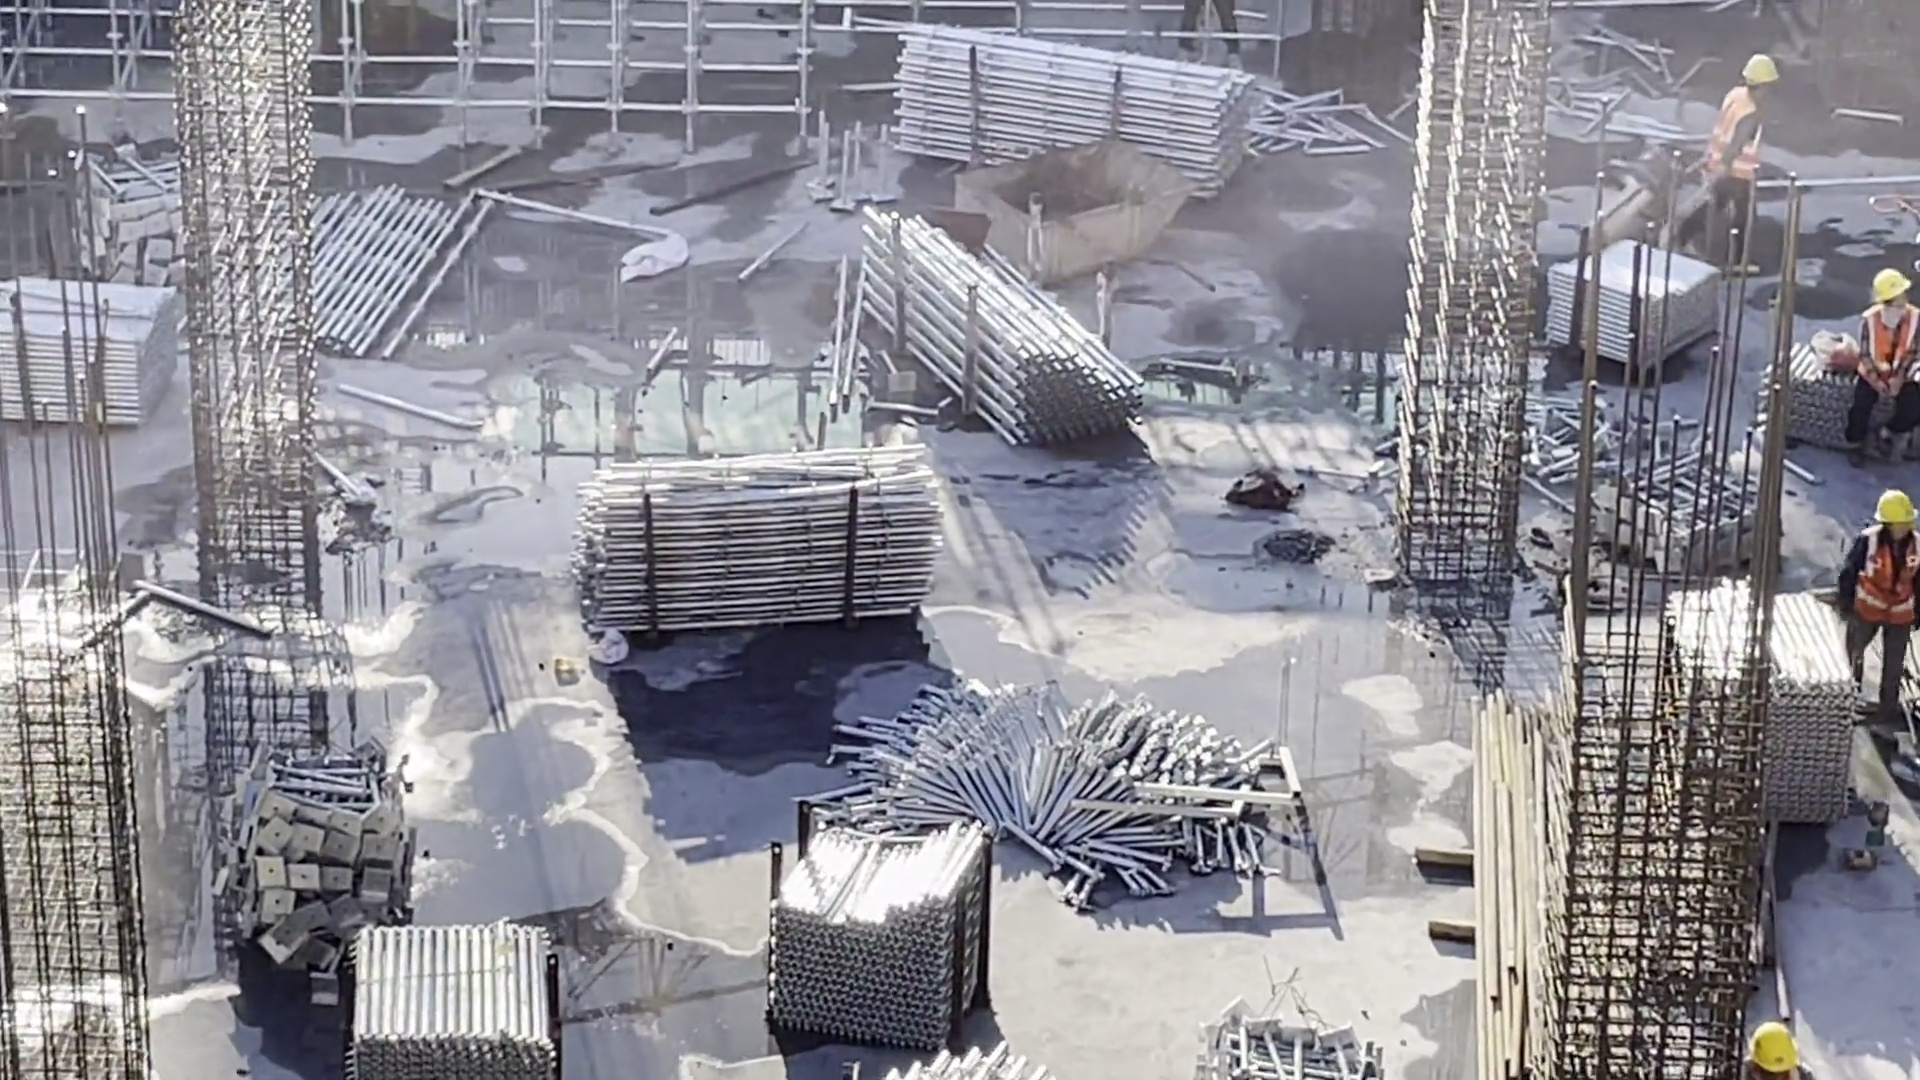helmet: (1756, 1015, 1803, 1074), (1870, 263, 1907, 309), (1747, 48, 1791, 85), (1882, 498, 1920, 528)
hopper: (948, 126, 1188, 283)
person: (1703, 41, 1781, 272), (1845, 487, 1920, 654), (1860, 256, 1920, 443)
scaffold: (835, 687, 1320, 908), (575, 459, 973, 647), (849, 203, 1133, 461), (888, 22, 1277, 202), (756, 802, 1048, 1014), (1649, 565, 1861, 854), (215, 751, 435, 987), (285, 174, 516, 373), (1554, 408, 1806, 573), (339, 912, 583, 1080), (1, 279, 204, 433), (1553, 231, 1711, 378), (1175, 980, 1402, 1080), (61, 157, 211, 283), (1768, 346, 1904, 468), (843, 1028, 1082, 1080)
vest: (1851, 518, 1920, 620), (1708, 81, 1762, 183), (1860, 303, 1920, 388)
